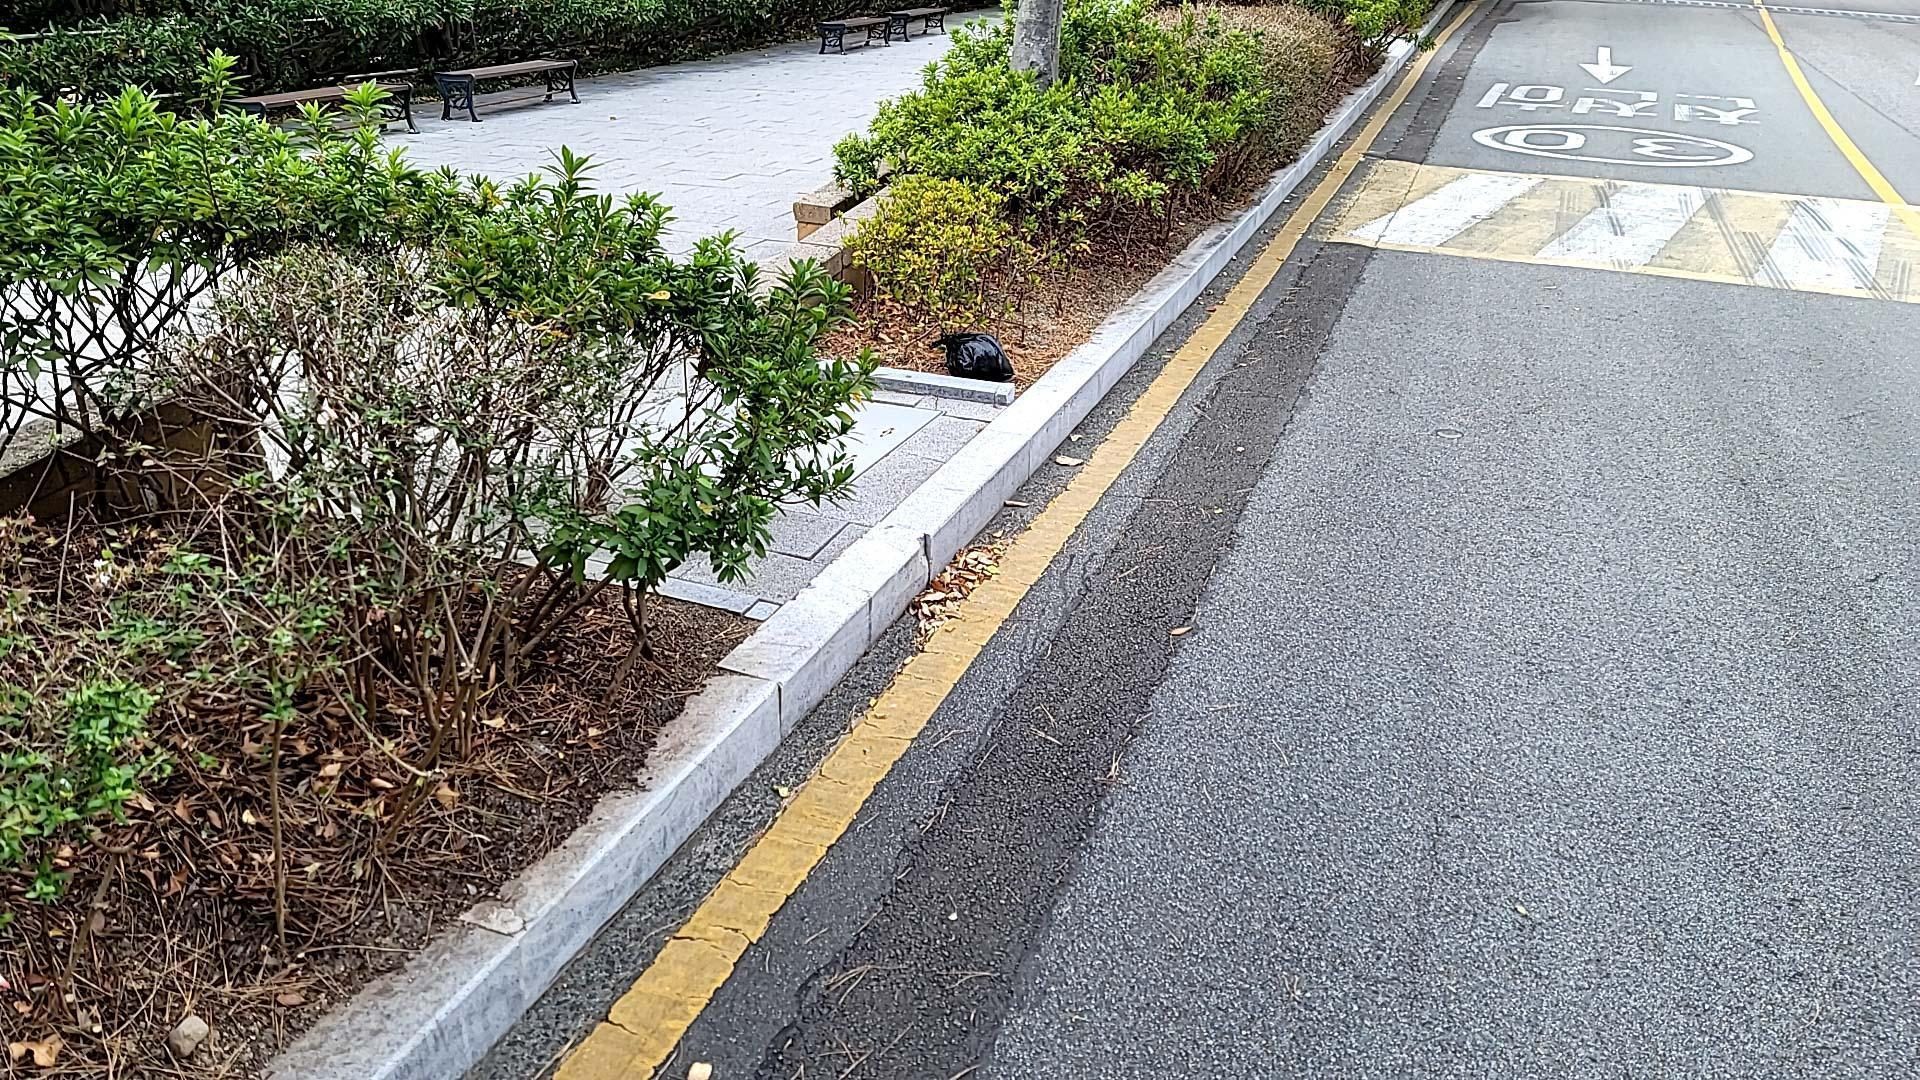black_bag: (924, 323, 1023, 382)
